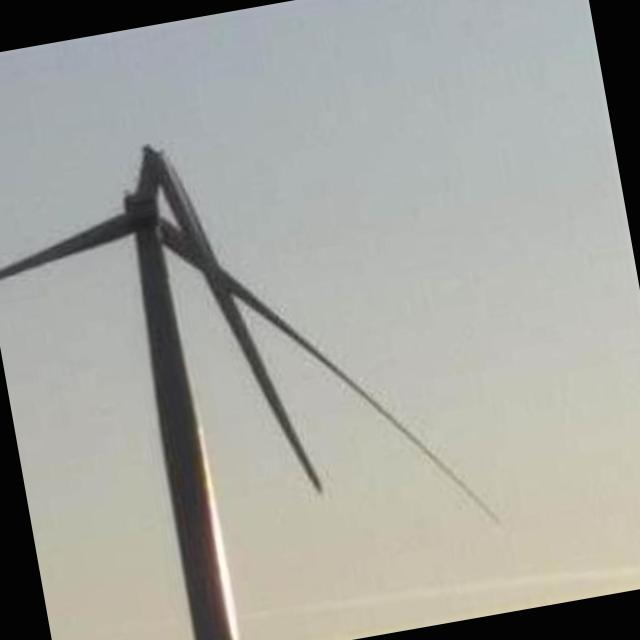crack: (107, 118, 326, 520)
